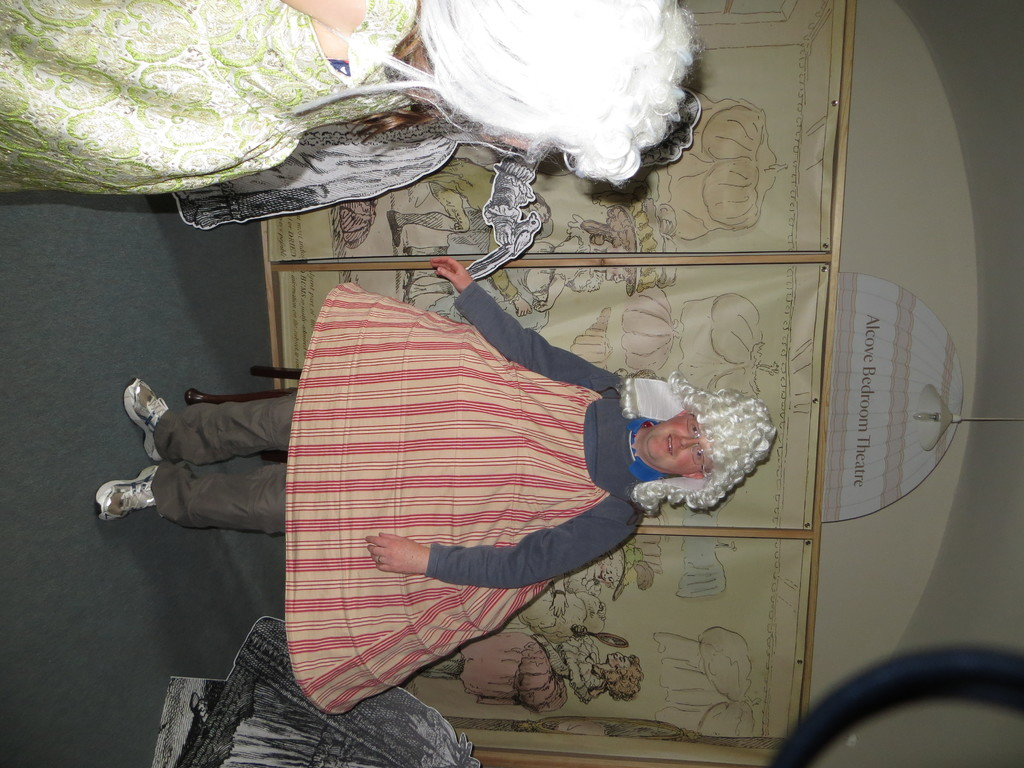Human_hand: (364, 532, 425, 573), (428, 248, 465, 284), (491, 218, 515, 252), (513, 297, 536, 321), (549, 596, 570, 620), (569, 622, 589, 639), (537, 294, 553, 314), (533, 637, 549, 646)
